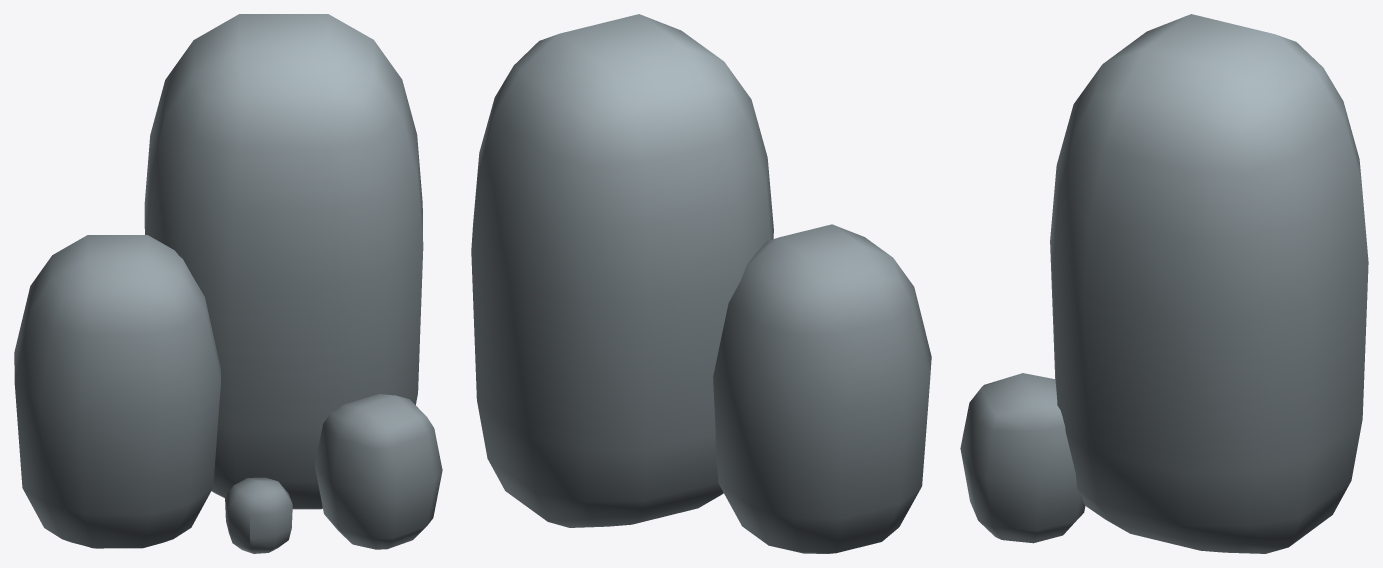
The model's file is Rock_6_E_Color1.gltf.
3 views of the same model, side by side, from view 1: azimuth 30°, elevation 25°; view 2: azimuth 150°, elevation 25°; view 3: azimuth 270°, elevation 25° (orthographic). The views are drawn at different scales.
Parts seen in each view (by area): view 1: Rock_6_E_Color1; view 2: Rock_6_E_Color1; view 3: Rock_6_E_Color1.
Part boxes in pixels (bbox=[...]): Rock_6_E_Color1: bbox=[14, 14, 442, 553]; Rock_6_E_Color1: bbox=[471, 14, 931, 553]; Rock_6_E_Color1: bbox=[960, 14, 1368, 553].
Bounding box in the file's own units: 1.94 × 2.08 × 1.58.
Materials: 1 (1 with a texture image).
